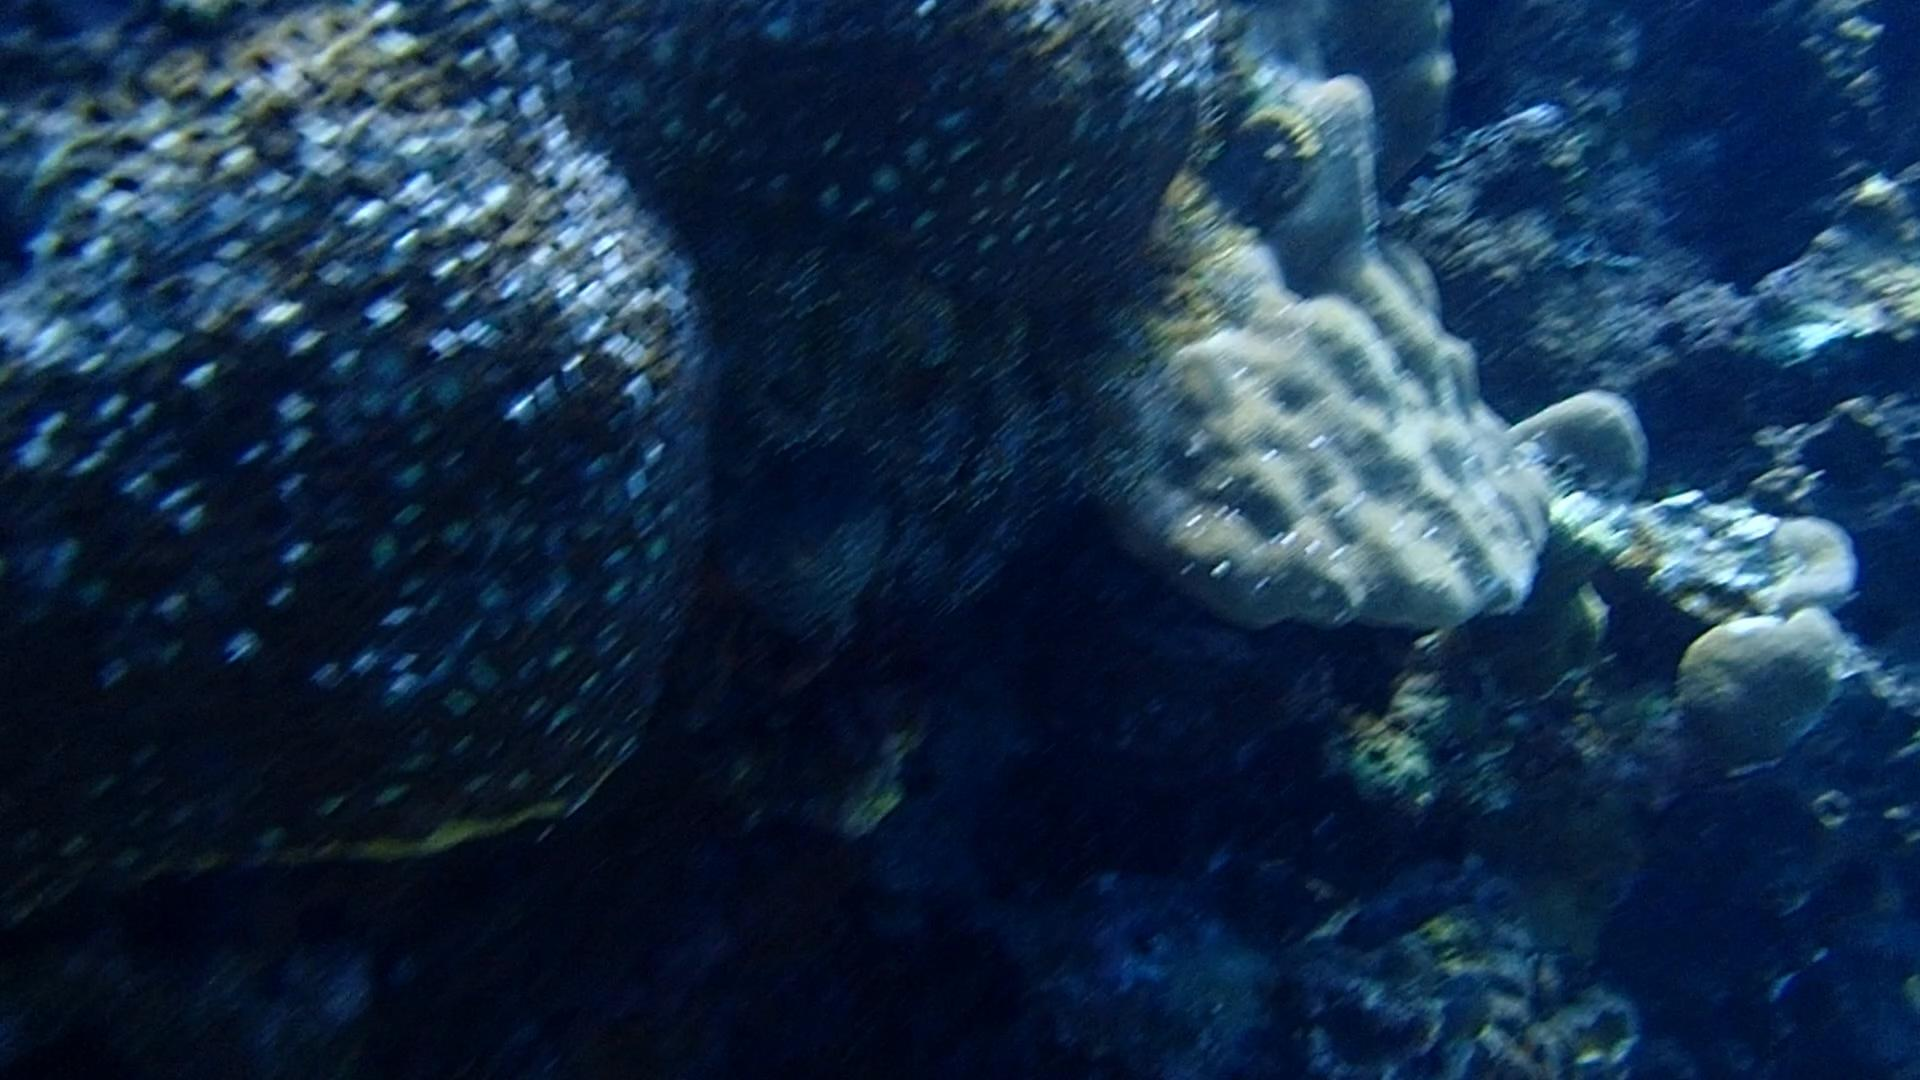Dark Fish: (1461, 136, 1576, 233)
